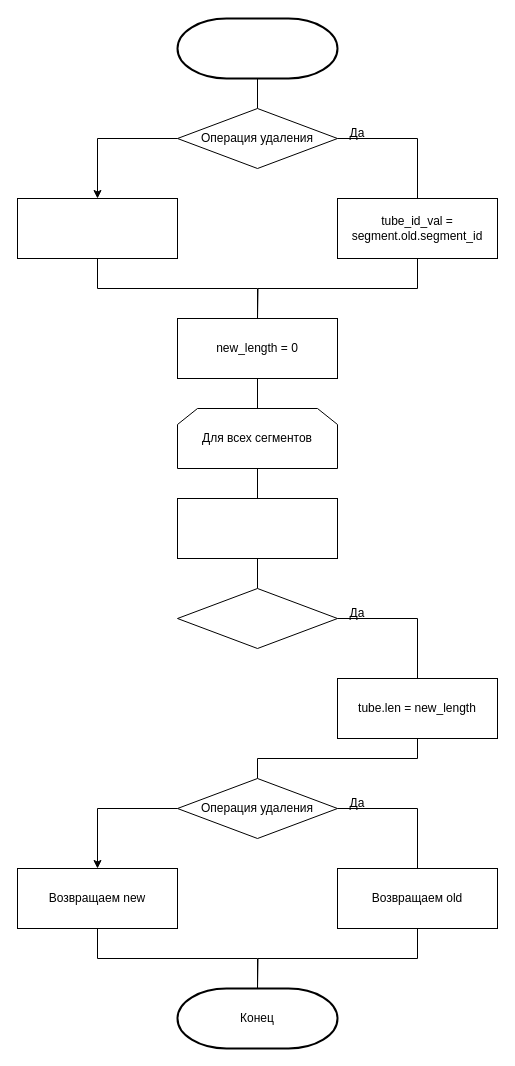
Some shapes in this 515 by 1066 pixel diagram are drawn without their labels. Each missing label, with the centre of its shape:
"current_length ≠ new_length" belongs at (257,618).
"tube_id_val = segment.new.segment_id" belongs at (97,228).
"Начало" belongs at (257,48).
"Получить current_length из tube" belongs at (257,528).
